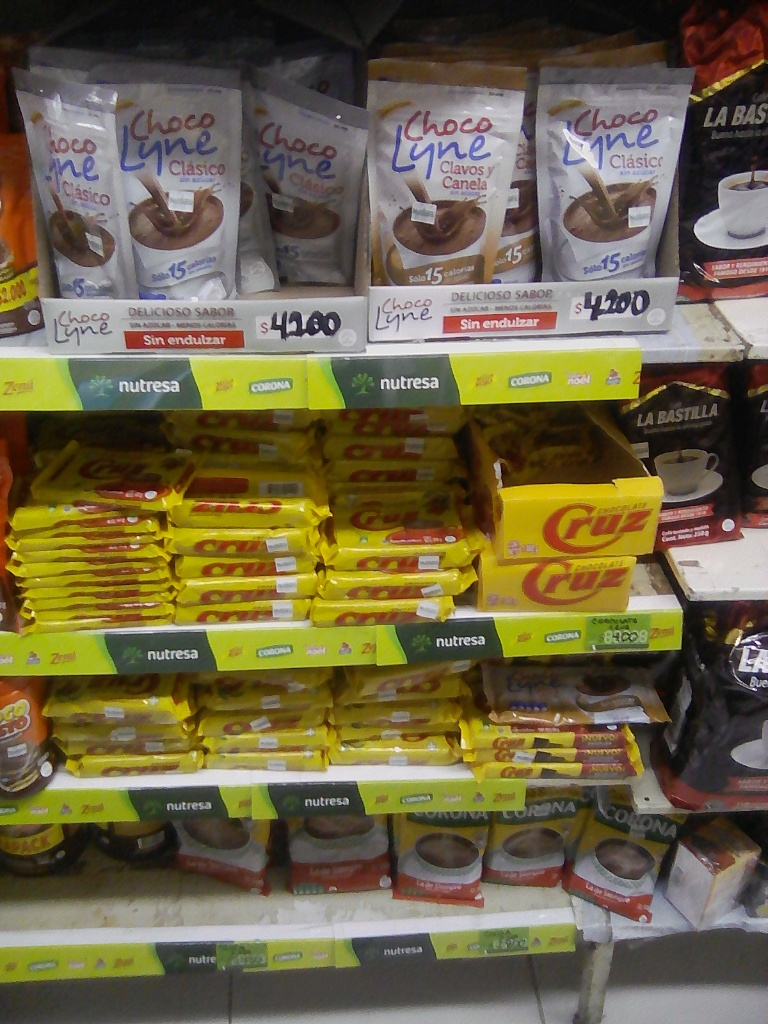COL0170103TRR00100: (3, 678, 56, 791)
